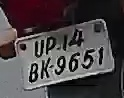1: (97, 45, 108, 67), (62, 31, 69, 53)
4: (70, 27, 85, 50)
5: (81, 48, 96, 72)
6: (67, 52, 81, 73)
9: (54, 56, 67, 78)
B: (28, 62, 39, 84)
K: (40, 60, 49, 82)
P: (45, 34, 55, 57)
U: (32, 37, 44, 60)
